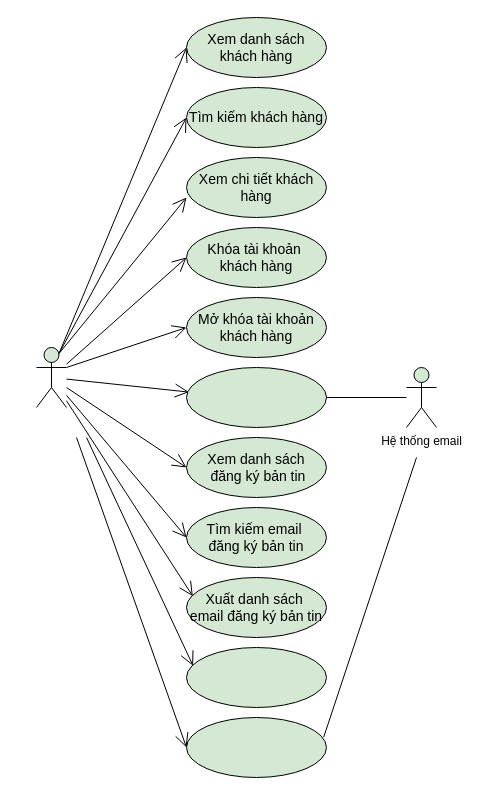
Some shapes in this 479 by 795 pixel diagram are drawn without their labels. Each missing label, with the centre of its shape:
Gửi email cho khách hàng: (256,397)
Quản trị viên: (51,377)
Soạn và gửi bản tin: (256,747)
Xóa email khỏi danh sách đăng ký bản tin: (256,677)
